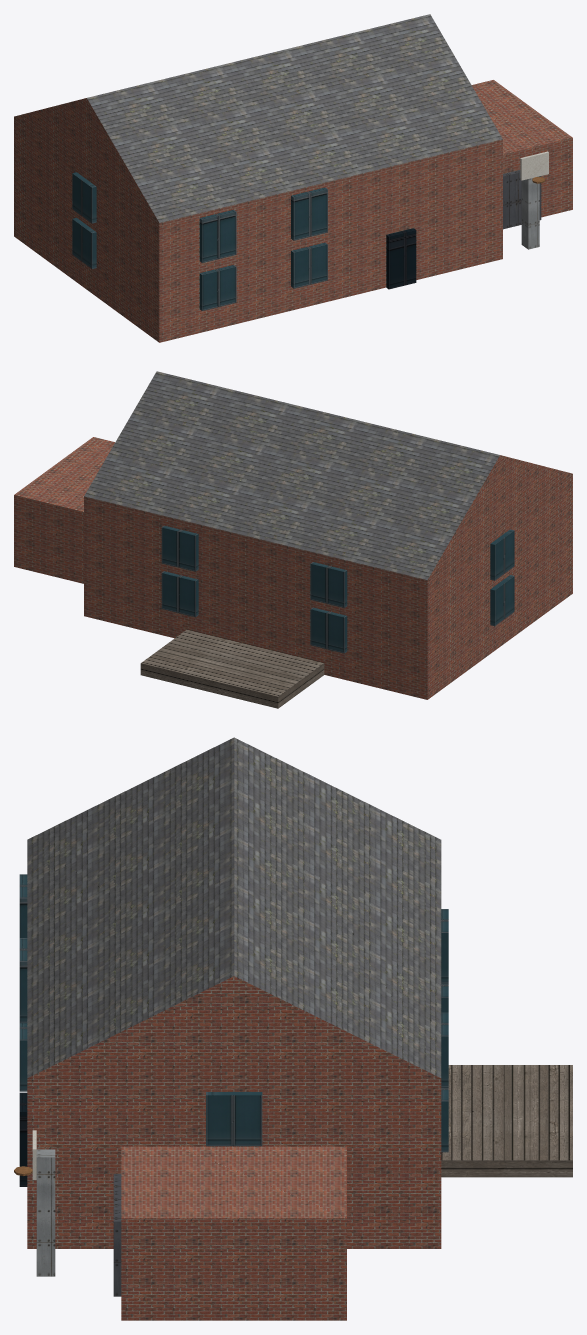
File: split-level-house_lod0.gltf
3 views of the same model, one above another, from view 1: azimuth 30°, elevation 25°; view 2: azimuth 150°, elevation 25°; view 3: azimuth 270°, elevation 25° (orthographic). The views are drawn at different scales.
Parts seen in each view (by area): view 1: split-level-house_walls, split-level-house_roof, split-level-house_fen_07-glass-curtain-blue_0, split-level-house__garage, split-level-house_gable_ends, split-level-house_fen_07-glass-curtain-blue_1_t, split-level-house__hoop, split-level-house__garage_door, split-level-house__hoop_backboard; view 2: split-level-house_walls, split-level-house_roof, split-level-house__deck, split-level-house__garage, split-level-house_fen_07-glass-curtain-blue_0, split-level-house_gable_ends; view 3: split-level-house_roof, split-level-house_walls, split-level-house__garage, split-level-house_gable_ends, split-level-house__deck, split-level-house_fen_07-glass-curtain-blue_0, split-level-house__hoop, split-level-house__garage_door, split-level-house_fen_07-glass-curtain-blue_1_t.
Boxes of the visible parts, bbox=[...] form: split-level-house_walls: bbox=[14, 117, 502, 342]; split-level-house_roof: bbox=[87, 14, 502, 222]; split-level-house_fen_07-glass-curtain-blue_0: bbox=[72, 172, 327, 310]; split-level-house__garage: bbox=[471, 80, 572, 217]; split-level-house_gable_ends: bbox=[14, 98, 158, 222]; split-level-house_fen_07-glass-curtain-blue_1_t: bbox=[386, 228, 416, 289]; split-level-house__hoop: bbox=[521, 176, 539, 249]; split-level-house__garage_door: bbox=[503, 170, 541, 229]; split-level-house__hoop_backboard: bbox=[520, 151, 548, 180]; split-level-house_walls: bbox=[84, 474, 572, 699]; split-level-house_roof: bbox=[84, 371, 499, 579]; split-level-house__deck: bbox=[140, 629, 324, 708]; split-level-house__garage: bbox=[14, 437, 114, 583]; split-level-house_fen_07-glass-curtain-blue_0: bbox=[161, 525, 514, 653]; split-level-house_gable_ends: bbox=[428, 455, 572, 579]; split-level-house_roof: bbox=[27, 737, 441, 1077]; split-level-house_walls: bbox=[27, 1078, 441, 1248]; split-level-house__garage: bbox=[121, 1146, 346, 1320]; split-level-house_gable_ends: bbox=[28, 976, 440, 1078]; split-level-house__deck: bbox=[441, 1065, 572, 1177]; split-level-house_fen_07-glass-curtain-blue_0: bbox=[19, 874, 448, 1152]; split-level-house__hoop: bbox=[36, 1149, 55, 1276]; split-level-house__garage_door: bbox=[113, 1174, 121, 1296]; split-level-house_fen_07-glass-curtain-blue_1_t: bbox=[19, 1092, 27, 1186].
Size of the model in its own units: 19.7 by 8 by 14.85.
